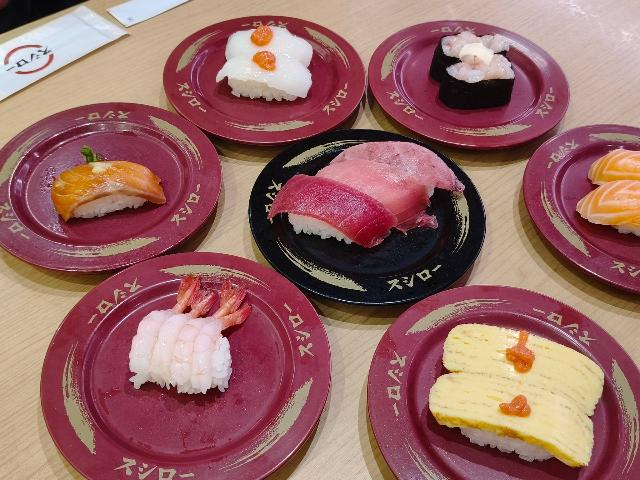janback: (249, 151, 502, 303)
